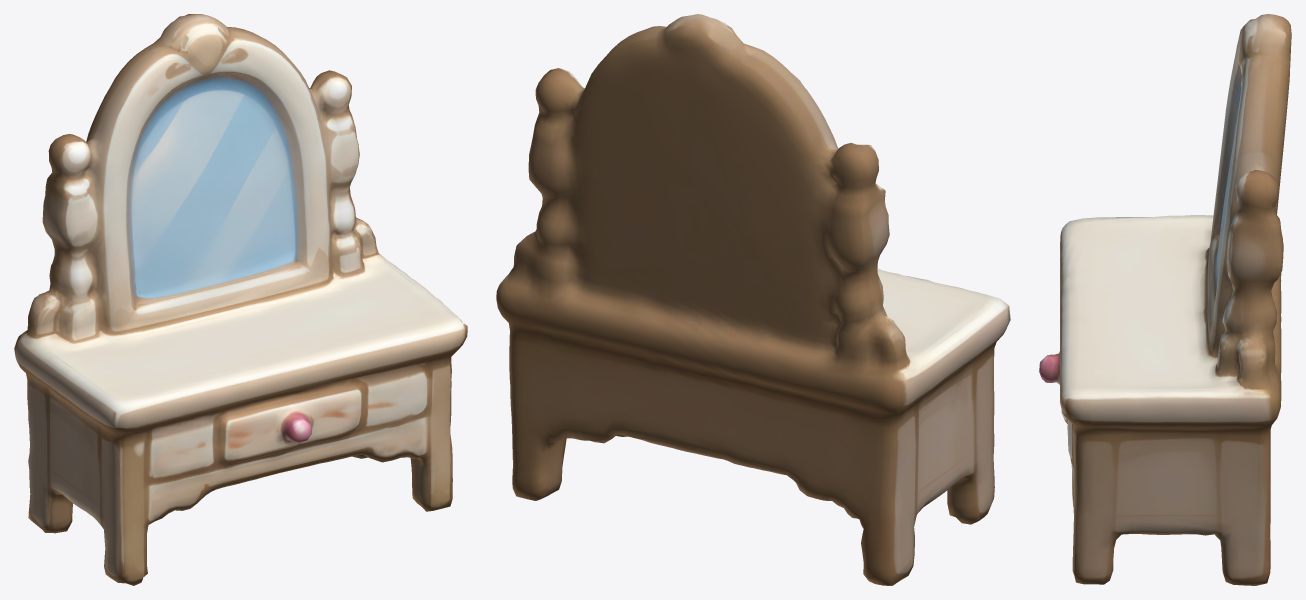
Rendered from White_dresser.glb.
3 views of the same model, side by side, from view 1: azimuth 30°, elevation 25°; view 2: azimuth 150°, elevation 25°; view 3: azimuth 270°, elevation 25° (orthographic). The views are drawn at different scales.
Parts seen in each view (by area): view 1: RETOPO; view 2: RETOPO; view 3: RETOPO.
Boxes of the visible parts, x1,y1,x2,y2 form: RETOPO: (14, 14, 467, 585); RETOPO: (496, 14, 1010, 585); RETOPO: (1039, 14, 1291, 585).
Size of the model in its own units: 0.7546 by 0.925 by 0.4365.
Materials: 1 (1 with a texture image).
